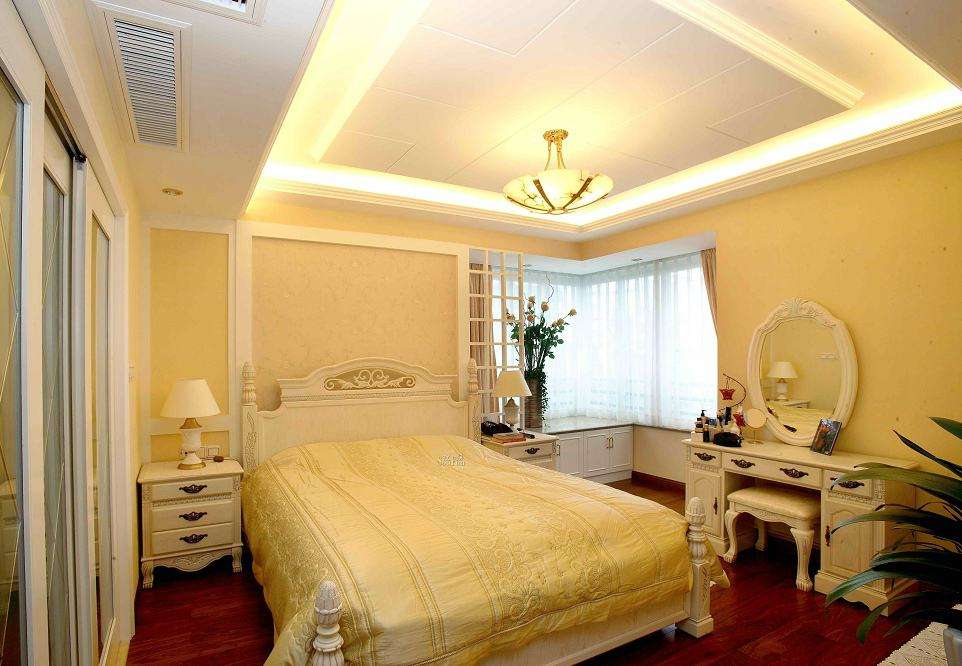床: (227, 428, 696, 666)
灯: (495, 125, 617, 222), (153, 374, 219, 469), (495, 368, 531, 437), (767, 357, 797, 403), (155, 185, 183, 204)
